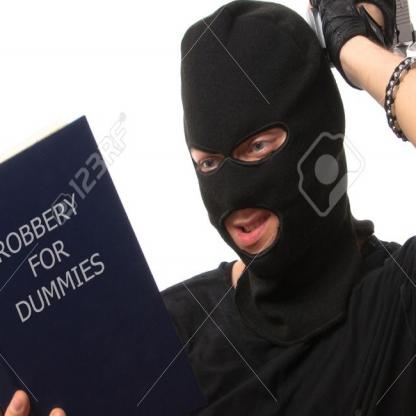gun: (309, 0, 416, 66)
